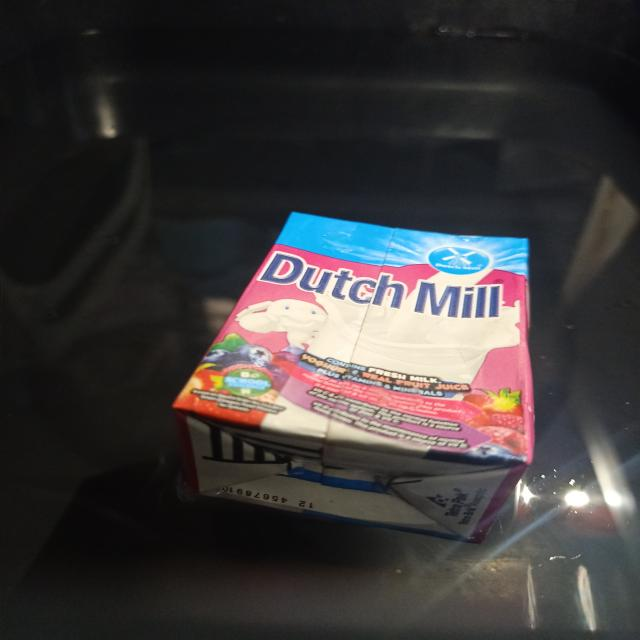Cardboard Box: (173, 214, 534, 543)
